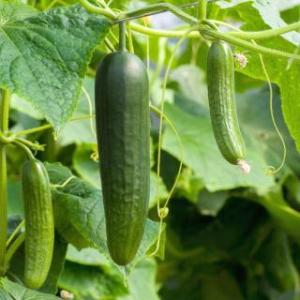cucumber: (92, 49, 154, 266), (207, 39, 249, 166), (20, 153, 58, 293)
